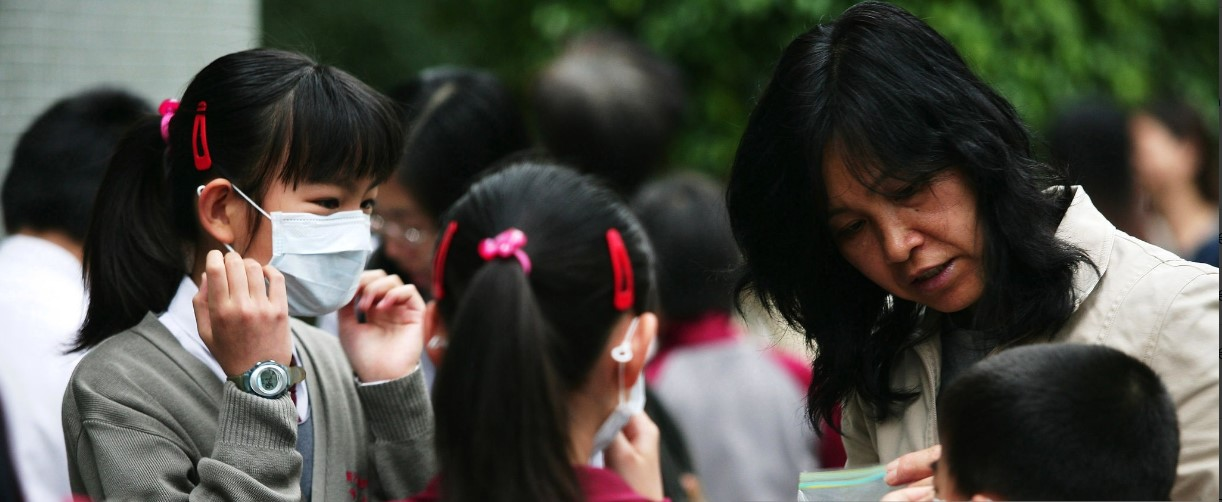face_no_mask: (752, 10, 1016, 319)
face_with_mask: (159, 48, 403, 322)
